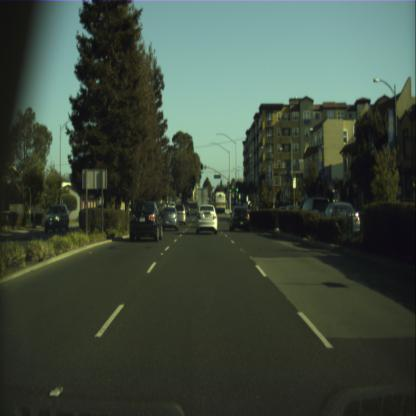Green: (235, 181, 238, 191), (200, 164, 203, 172), (229, 184, 231, 192)
